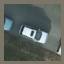car: (18, 23, 50, 46)
